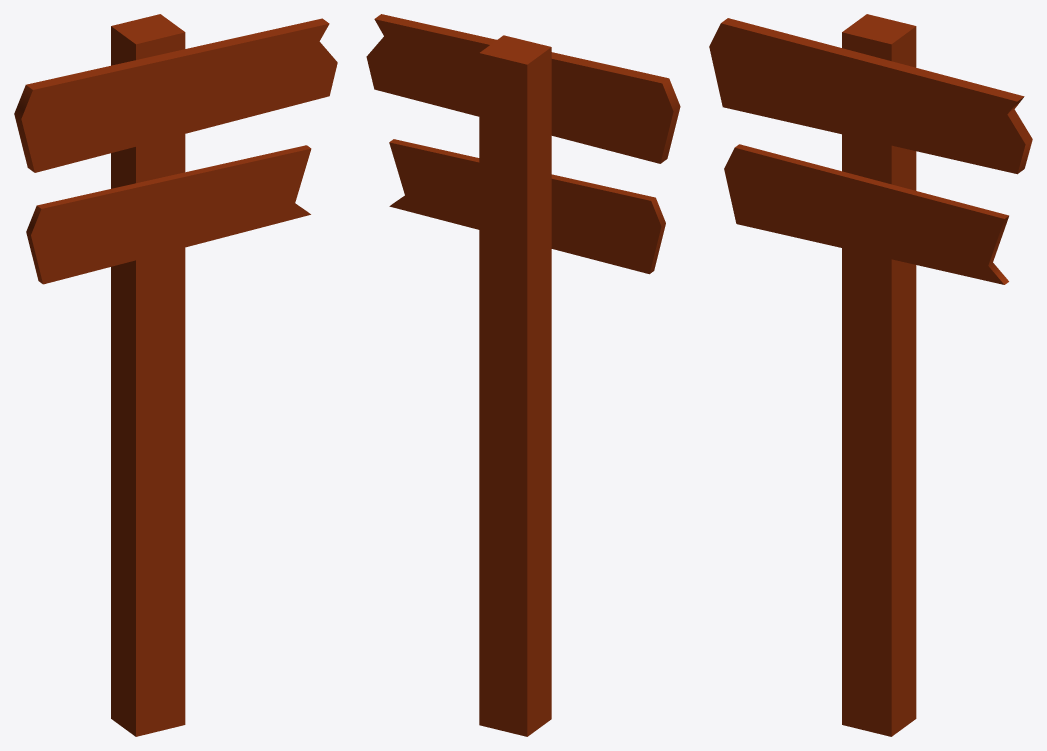
File: wood.fbx
3 renders of one model, left to right at view 1: azimuth 30°, elevation 25°; view 2: azimuth 150°, elevation 25°; view 3: azimuth 330°, elevation 25°, orthographic. The views are drawn at different scales.
Parts seen in each view (by area): view 1: wood; view 2: wood; view 3: wood.
Boxes of the visible parts, x1,y1,x2,y2 form: wood: (14,14,337,736); wood: (366,14,680,736); wood: (709,14,1032,736).
Size of the model in its own units: 500 by 1045 by 93.24.
